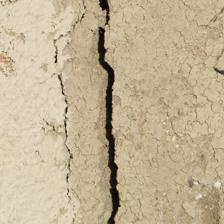Crack: (44, 0, 84, 101), (0, 158, 55, 224), (16, 85, 49, 122)
